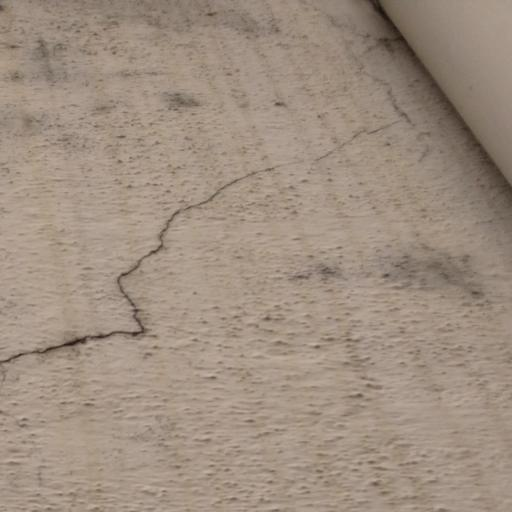minor_crack: (0, 23, 423, 372)
